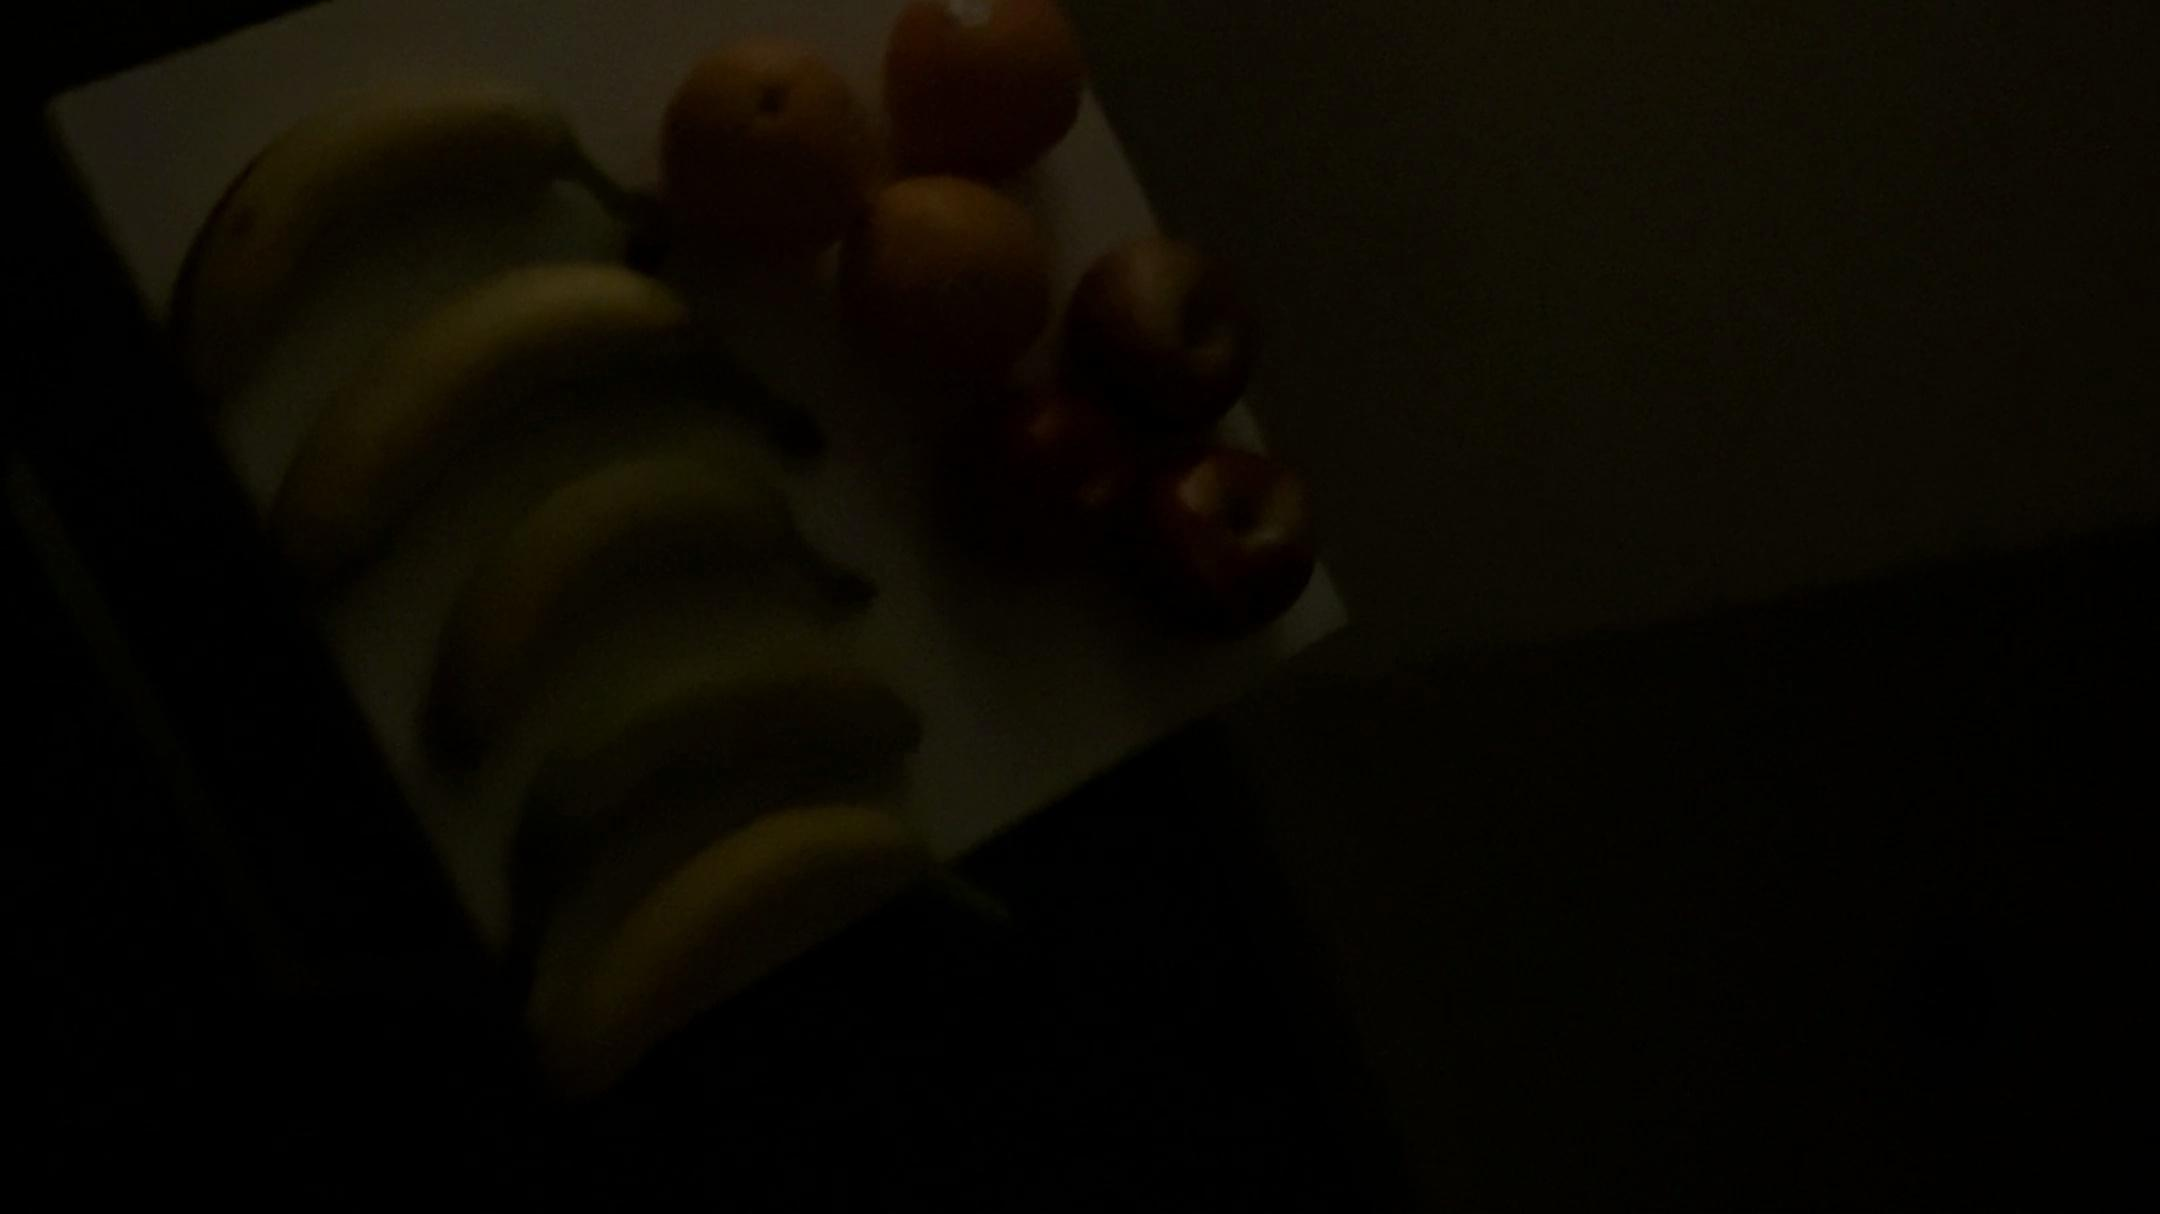apple: (1125, 427, 1335, 675), (927, 375, 1126, 629), (1041, 215, 1268, 429)
banana: (211, 285, 840, 571), (363, 433, 865, 767), (125, 91, 679, 371), (493, 815, 1004, 1073), (441, 649, 975, 876)
orange: (823, 163, 1049, 383), (656, 47, 881, 243), (880, 1, 1107, 190)
